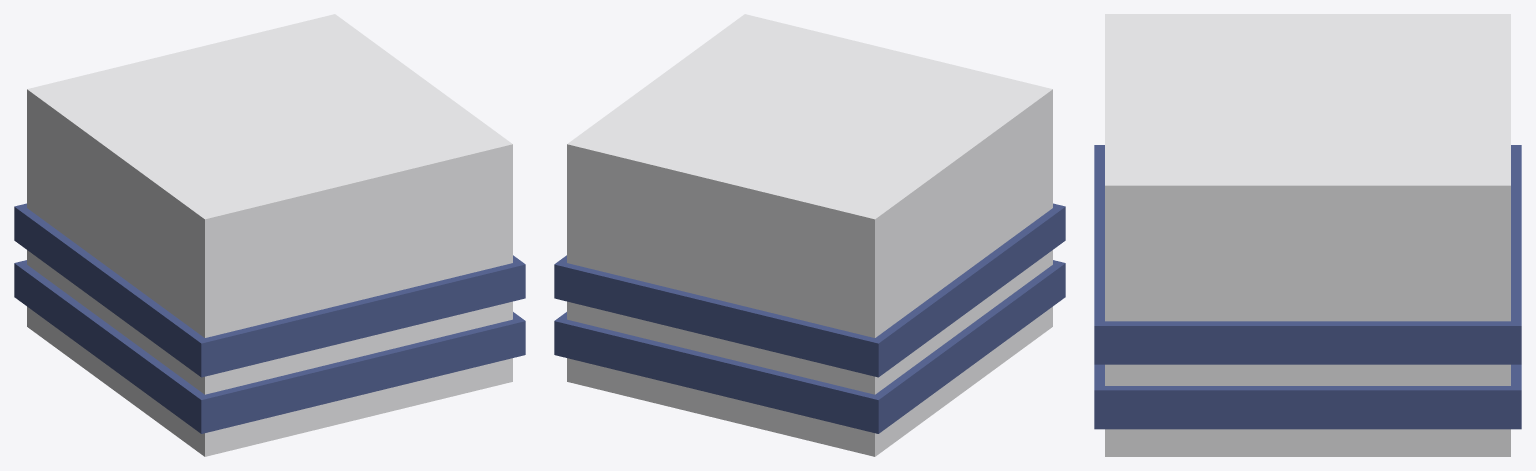
Rendered from sailor_manga_inf.glb.
The picture shows the model from 3 angles, left to right: view 1: azimuth 30°, elevation 25°; view 2: azimuth 150°, elevation 25°; view 3: azimuth 270°, elevation 25°; orthographic projection. The views are drawn at different scales.
Parts seen in each view (by area): view 1: sailor_manga_inf; view 2: sailor_manga_inf; view 3: sailor_manga_inf.
Part boxes in pixels (x1,y1,x2,y2): sailor_manga_inf: (14, 14, 525, 456); sailor_manga_inf: (554, 14, 1065, 456); sailor_manga_inf: (1094, 14, 1521, 456).
Bounding box in the file's own units: 0.3 × 0.21 × 0.3.
